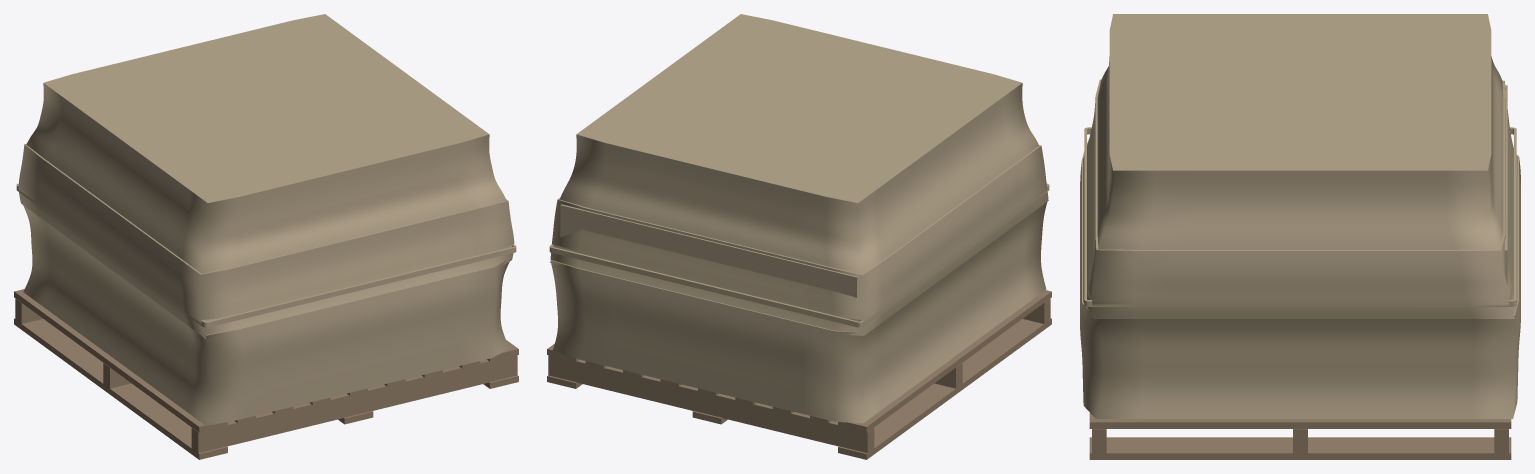
The model's file is pallet-stack-white.glb.
3 views of the same model, side by side, from view 1: azimuth 30°, elevation 25°; view 2: azimuth 150°, elevation 25°; view 3: azimuth 270°, elevation 25° (orthographic). The views are drawn at different scales.
Visible parts, largest first — view 1: pallet_stack; view 2: pallet_stack; view 3: pallet_stack.
Part boxes in pixels (x1,y1,x2,y2): pallet_stack: [14, 14, 518, 459]; pallet_stack: [547, 14, 1051, 459]; pallet_stack: [1080, 14, 1520, 459].
Size of the model in its own units: 1.2 by 0.875 by 1.25.
